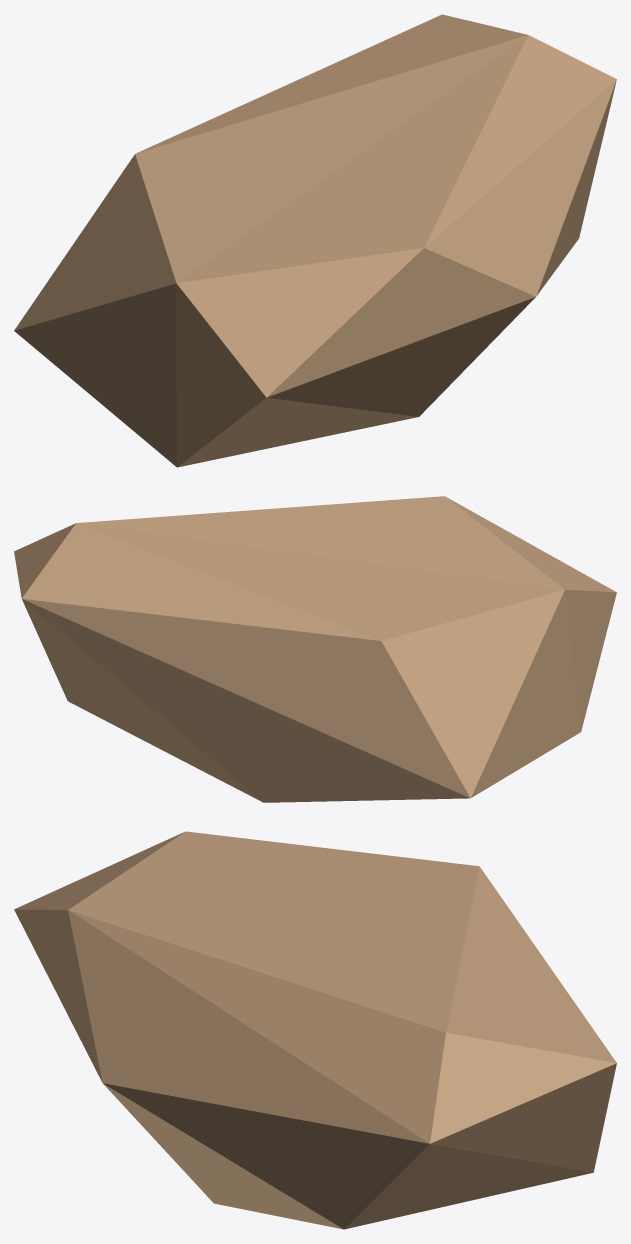
The model's file is Stone_7.fbx.
3 renders of one model, top to bottom at view 1: azimuth 30°, elevation 25°; view 2: azimuth 150°, elevation 25°; view 3: azimuth 270°, elevation 25°, orthographic. The views are drawn at different scales.
Parts seen in each view (by area): view 1: Stone_7; view 2: Stone_7; view 3: Stone_7.
Part boxes in pixels (<box>): Stone_7: <box>14,14,616,467</box>; Stone_7: <box>14,496,616,802</box>; Stone_7: <box>14,831,616,1229</box>.
Bounding box in the file's own units: 337 × 143 × 271.
